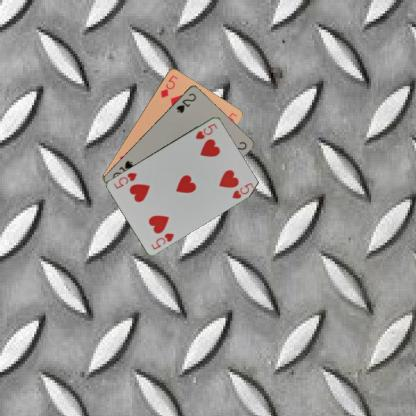2s: (173, 90, 198, 114)
5d: (158, 72, 179, 99)
5h: (149, 230, 175, 251), (193, 121, 218, 140)
